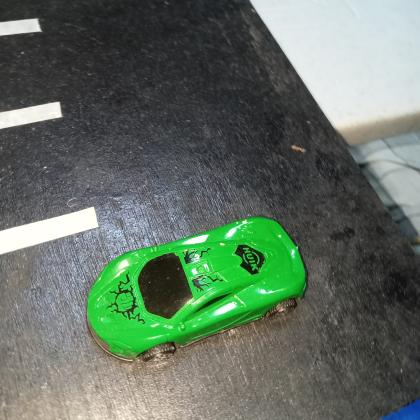Car: (80, 213, 311, 364)
